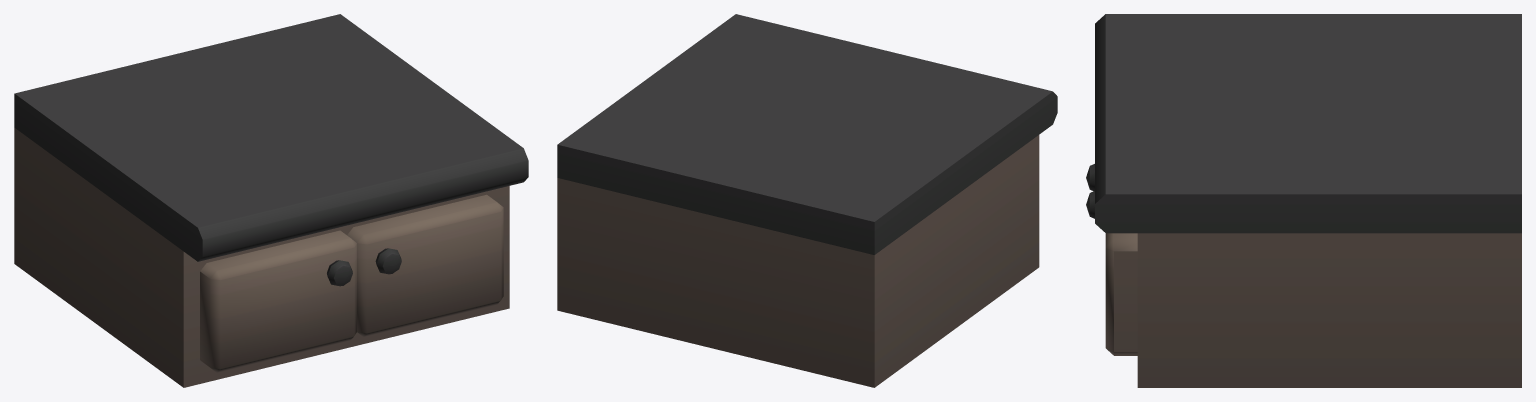
File: deliver_counter.glb
The picture shows the model from 3 angles, left to right: view 1: azimuth 30°, elevation 25°; view 2: azimuth 150°, elevation 25°; view 3: azimuth 270°, elevation 25°; orthographic projection. The views are drawn at different scales.
Parts seen in each view (by area): view 1: kitchencounter_straight_B_styleB; view 2: kitchencounter_straight_B_styleB; view 3: kitchencounter_straight_B_styleB.
Boxes of the visible parts, left/top/right/bottom form: kitchencounter_straight_B_styleB: left=14, top=14, right=528, bottom=387; kitchencounter_straight_B_styleB: left=557, top=14, right=1057, bottom=387; kitchencounter_straight_B_styleB: left=1086, top=14, right=1521, bottom=387.
Size of the model in its own units: 2 by 1 by 2.04.
Materials: 1 (1 with a texture image).
